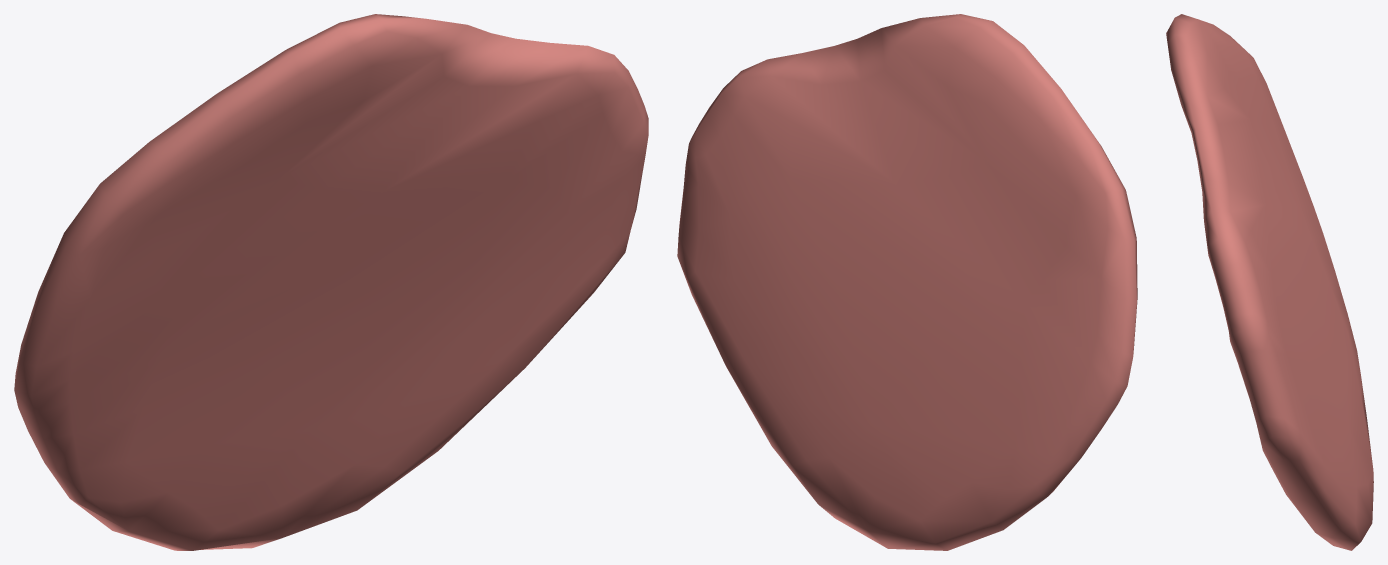
The picture shows the model from 3 angles, left to right: view 1: azimuth 30°, elevation 25°; view 2: azimuth 150°, elevation 25°; view 3: azimuth 270°, elevation 25°; orthographic projection. The views are drawn at different scales.
Visible parts, largest first — view 1: ZA_7b582f2570d6760f; view 2: ZA_7b582f2570d6760f; view 3: ZA_7b582f2570d6760f.
Part boxes in pixels (box(x1,y1,x2,y2)): ZA_7b582f2570d6760f: box(14, 14, 648, 550); ZA_7b582f2570d6760f: box(677, 14, 1137, 550); ZA_7b582f2570d6760f: box(1166, 14, 1373, 550).
Size of the model in its own units: 0.00684 by 0.00659 by 0.00245.
